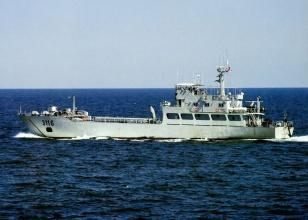warship: (11, 56, 297, 147)
